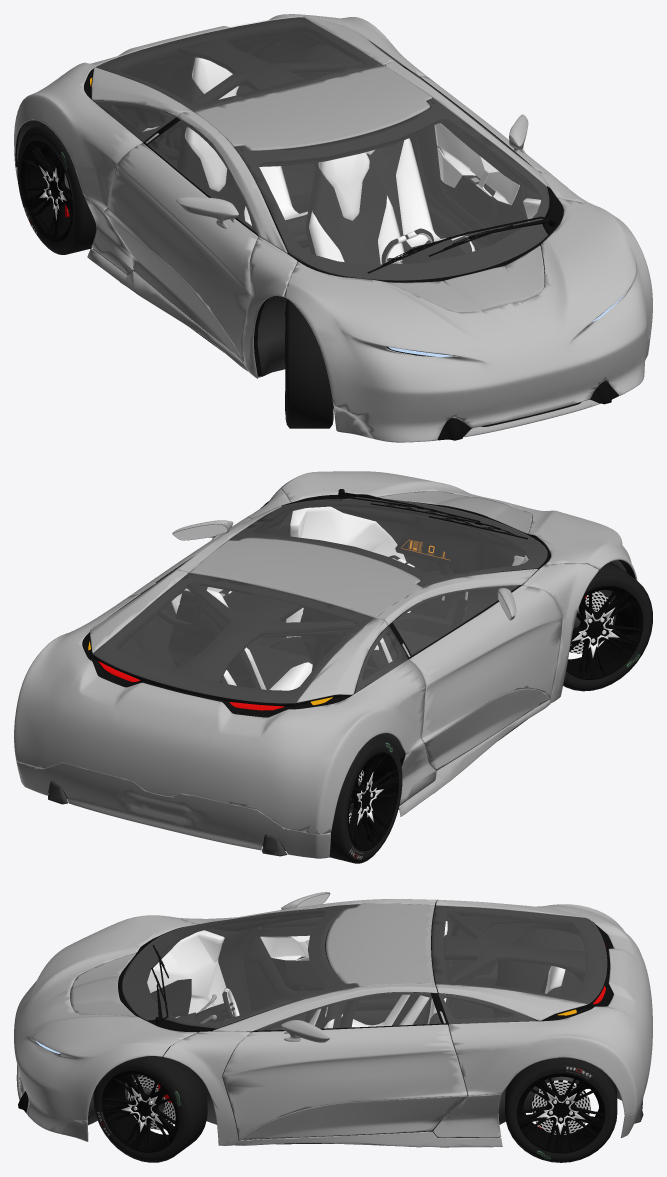
The model's file is car-concept-pearl.glb.
3 renders of one model, top to bottom at view 1: azimuth 30°, elevation 25°; view 2: azimuth 150°, elevation 25°; view 3: azimuth 270°, elevation 25°, orthographic. The views are drawn at different scales.
Parts seen in each view (by area): view 1: BodyHood, BodyWindshield, BodyRearwindow, BodyDoorRColor1, BodyRearPanelsColor1, BodyRoofPanel, BodyWindshieldGasket, InteriorSeatsColor1, InteriorSeatsColor2, BodyPillars, InteriorPillar, InteriorRearHatch (+21 smaller); view 2: BodyRearPanelsColor1, BodyRearwindow, BodyWindshield, BodyPanelsColor2, BodyDoorRColor1, BodyRoofPanel, BodyHood, InteriorRearHatch, BodyPillars, InteriorPillar, BodyWindshieldGasket, InteriorDashMid (+21 smaller); view 3: BodyRearPanelsColor1, BodyWindshield, BodyDoorLColor1, BodyHood, BodyRearwindow, BodyRoofPanel, BodyPillars, BodyWindshieldGasket, BodyDoorLColor2, BodyPanelsColor2, WheelFrontL, InteriorRearHatch (+25 smaller).
Boxes of the visible parts, x1,y1,x2,y2 form: BodyHood: (283, 198, 652, 442); BodyWindshield: (234, 98, 549, 280); BodyRearwindow: (95, 16, 382, 110); BodyDoorRColor1: (104, 143, 257, 363); BodyRearPanelsColor1: (14, 14, 428, 210); BodyRoofPanel: (193, 65, 432, 150); BodyWindshieldGasket: (234, 99, 563, 282); InteriorSeatsColor1: (185, 57, 475, 264); InteriorSeatsColor2: (180, 78, 472, 264); BodyPillars: (176, 61, 598, 378); InteriorPillar: (158, 37, 434, 168); InteriorRearHatch: (93, 17, 383, 117); BodyRearPanelsColor1: (14, 569, 425, 834); BodyRearwindow: (92, 573, 373, 703); BodyWindshield: (229, 497, 547, 587); BodyPanelsColor2: (16, 700, 550, 858); BodyDoorRColor1: (409, 585, 562, 742); BodyRoofPanel: (189, 537, 422, 617); BodyHood: (279, 471, 637, 580); InteriorRearHatch: (93, 573, 386, 707); BodyPillars: (175, 489, 599, 702); InteriorPillar: (174, 574, 417, 682); BodyWindshieldGasket: (230, 497, 550, 587); InteriorDashMid: (331, 503, 528, 622); BodyRearPanelsColor1: (436, 899, 652, 1115); BodyWindshield: (122, 904, 357, 1028); BodyDoorLColor1: (222, 1024, 467, 1139); BodyHood: (14, 915, 196, 1133); BodyRearwindow: (432, 905, 606, 1003); BodyRoofPanel: (326, 903, 434, 986); BodyPillars: (163, 899, 437, 1145); BodyWindshieldGasket: (118, 905, 357, 1032); BodyDoorLColor2: (240, 1096, 467, 1140); BodyPanelsColor2: (16, 1045, 652, 1147); WheelFrontL: (93, 1054, 207, 1162); InteriorRearHatch: (431, 905, 606, 1020).
Bounding box in the file's own units: 2.54 × 1.15 × 4.36.
Materials: 22 (3 with a texture image).
